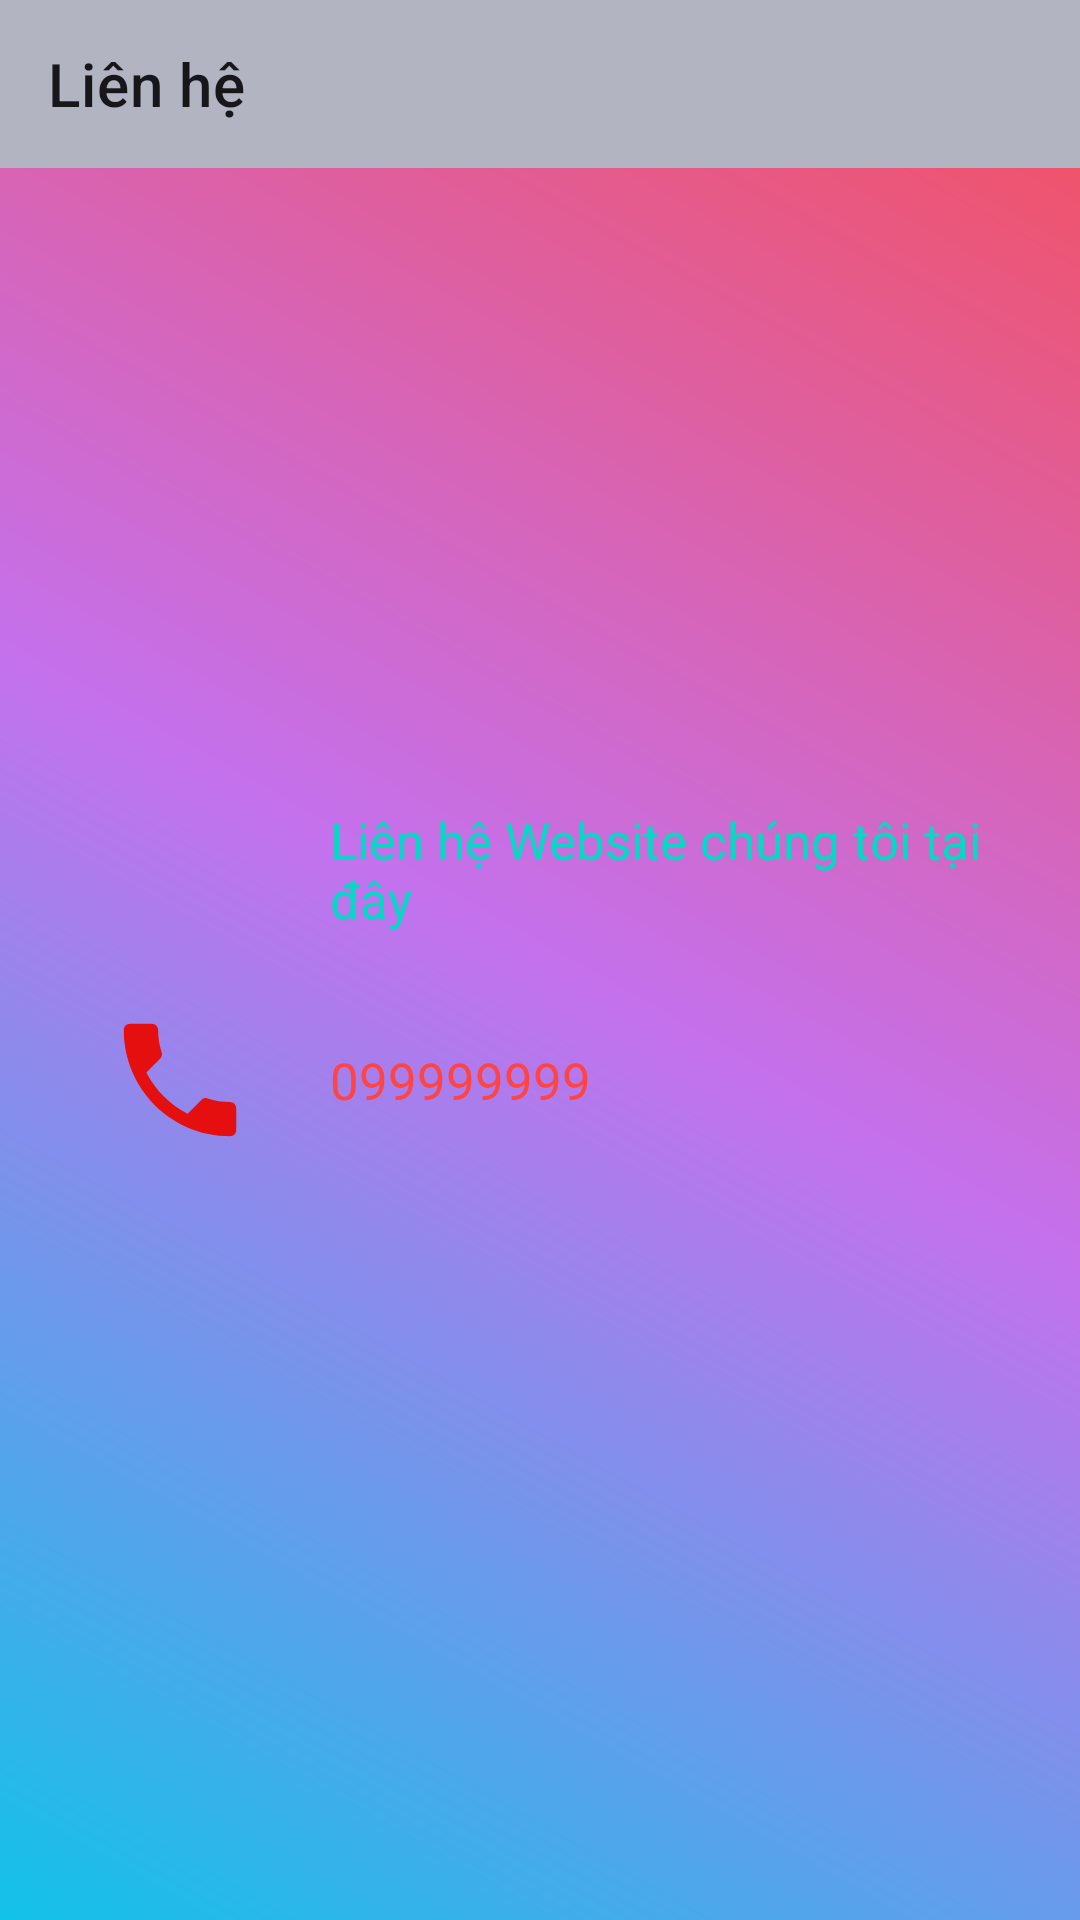

Where icons sit on this 1080px×1920px app screen, as {"left": x1, "top": y1, "right": x2, "bottom": y2}:
local phone: {"left": 123, "top": 1023, "right": 237, "bottom": 1137}
